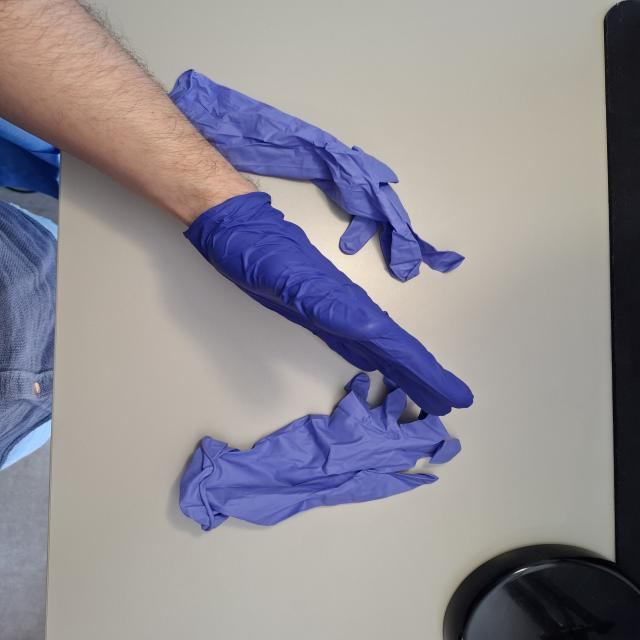glove_on: (178, 189, 481, 419)
